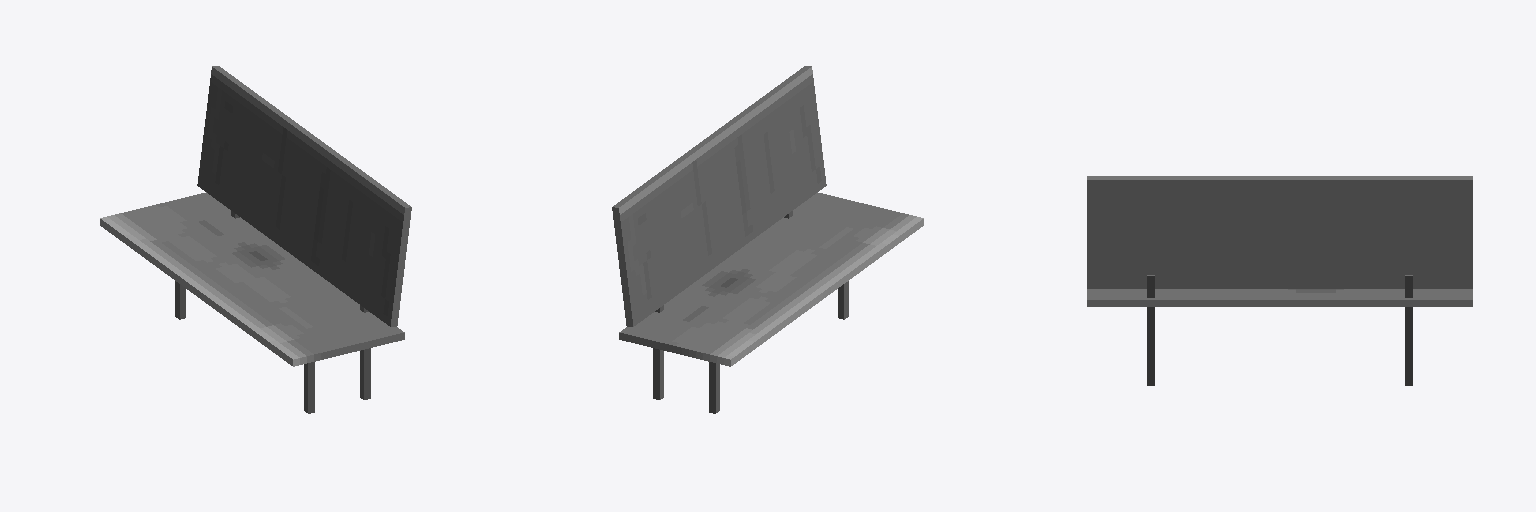
The picture shows the model from 3 angles: view 1: azimuth 30°, elevation 25°; view 2: azimuth 150°, elevation 25°; view 3: azimuth 270°, elevation 25°; orthographic projection.
Parts seen in each view (by area): view 1: cuboid; view 2: cuboid; view 3: cuboid.
Part boxes in pixels (left/top/right/bottom): cuboid: left=100, top=66, right=411, bottom=413; cuboid: left=612, top=66, right=923, bottom=413; cuboid: left=1087, top=176, right=1472, bottom=385.
Bounding box in the file's own units: 1.07 × 1.82 × 3.
Materials: 1 (1 with a texture image).